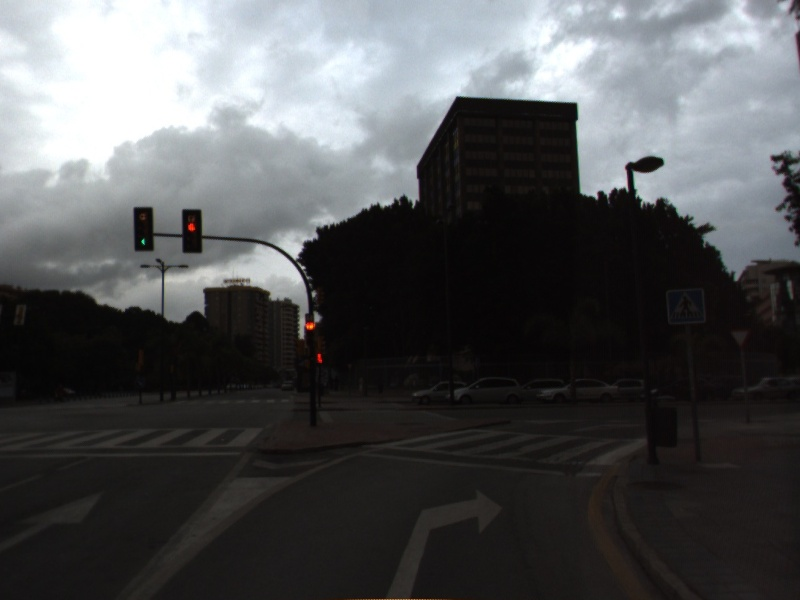RIGHT: (381, 484, 508, 600)
STRAIGHT: (1, 487, 107, 550)
